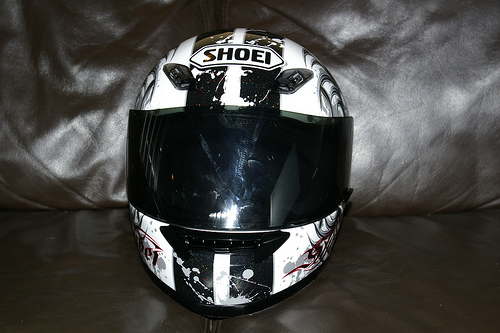helmet: (126, 34, 352, 291)
